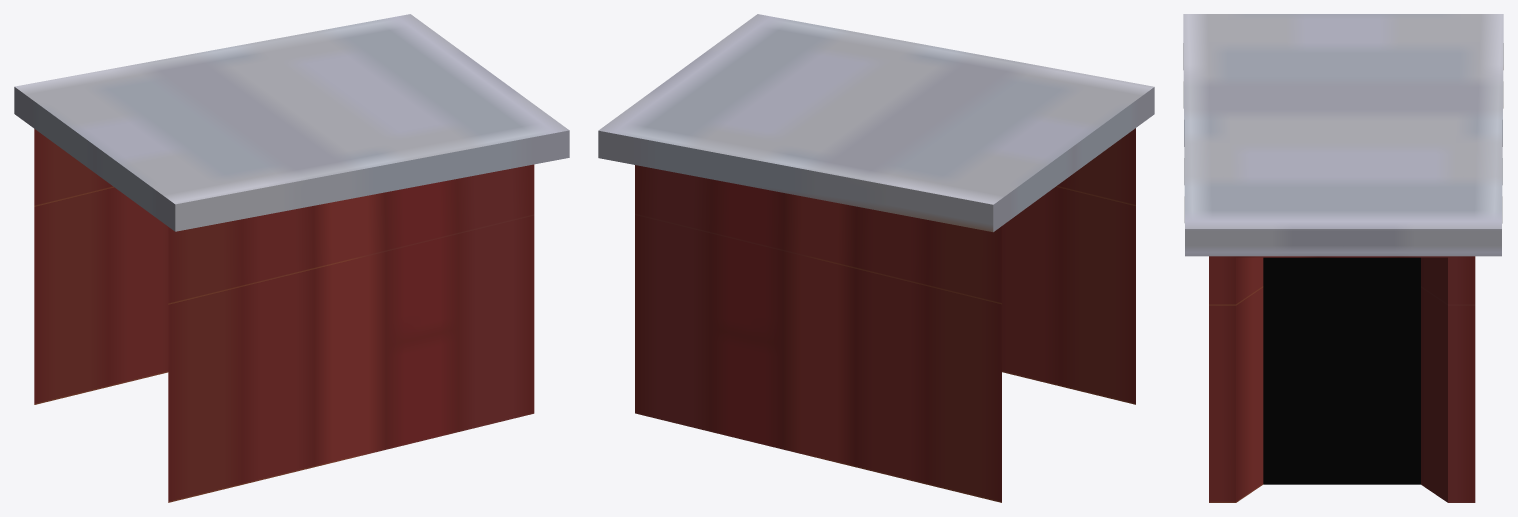
Rendered from roof_window_v7a001.fbx.
The picture shows the model from 3 angles, left to right: view 1: azimuth 30°, elevation 25°; view 2: azimuth 150°, elevation 25°; view 3: azimuth 270°, elevation 25°; orthographic projection.
Parts seen in each view (by area): view 1: roof_window_v7a001; view 2: roof_window_v7a001; view 3: roof_window_v7a001.
Boxes of the visible parts, left/top/right/bottom form: roof_window_v7a001: left=14, top=14, right=569, bottom=502; roof_window_v7a001: left=598, top=14, right=1154, bottom=502; roof_window_v7a001: left=1183, top=14, right=1503, bottom=502.
Bounding box in the file's own units: 209 × 156 × 147.
